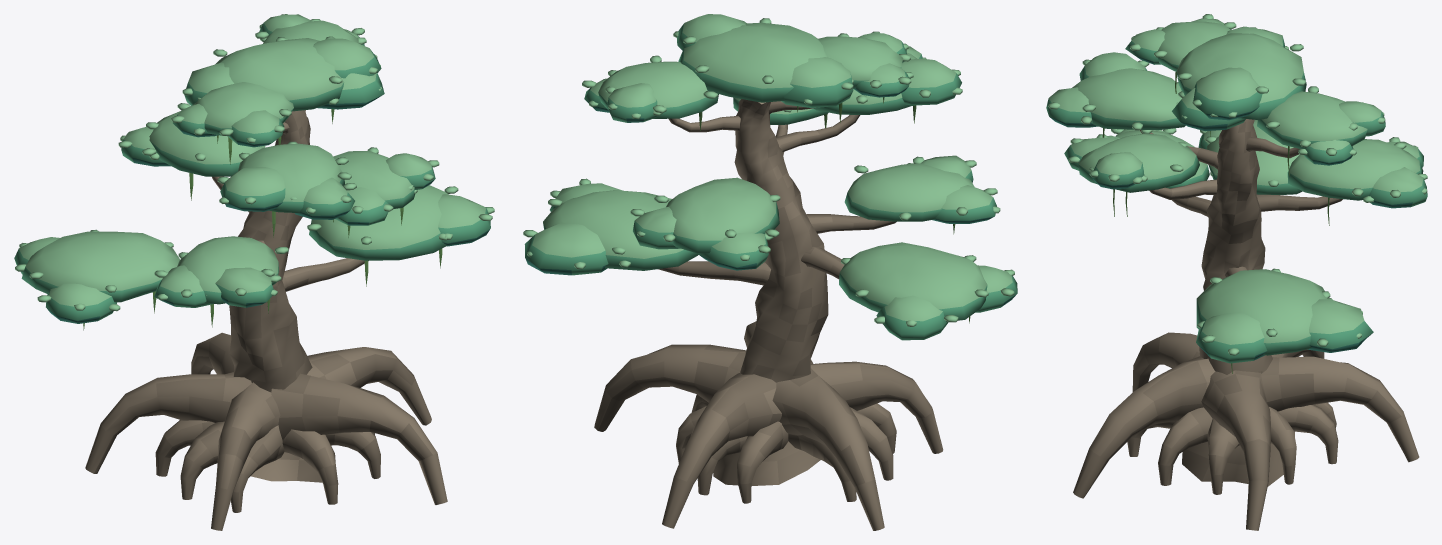
File: tree_world.glb
The picture shows the model from 3 angles, left to right: view 1: azimuth 30°, elevation 25°; view 2: azimuth 150°, elevation 25°; view 3: azimuth 270°, elevation 25°; orthographic projection. The views are drawn at different scales.
Parts seen in each view (by area): view 1: foliage_body_nl, trunk, trunk_body_nl; view 2: foliage_body_nl, trunk; view 3: foliage_body_nl, trunk.
Part boxes in pixels (<box>): foliage_body_nl: <box>14,14,494,323</box>; trunk: <box>85,110,447,530</box>; trunk_body_nl: <box>83,109,442,330</box>; foliage_body_nl: <box>523,14,1017,340</box>; trunk: <box>594,99,943,530</box>; foliage_body_nl: <box>1046,14,1427,363</box>; trunk: <box>1073,119,1419,530</box>.
Size of the model in its own units: 128 by 115 by 94.62.
